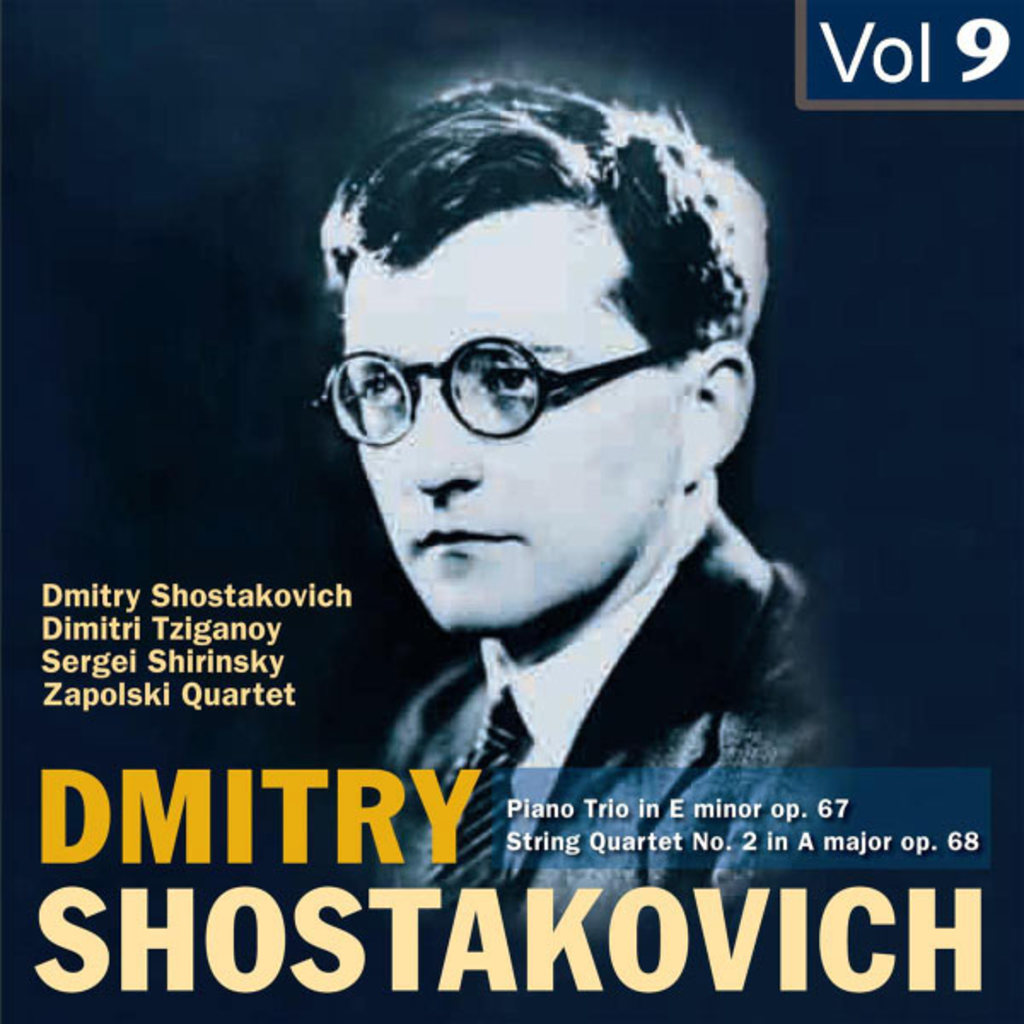Human-face: (350, 207, 678, 633)
